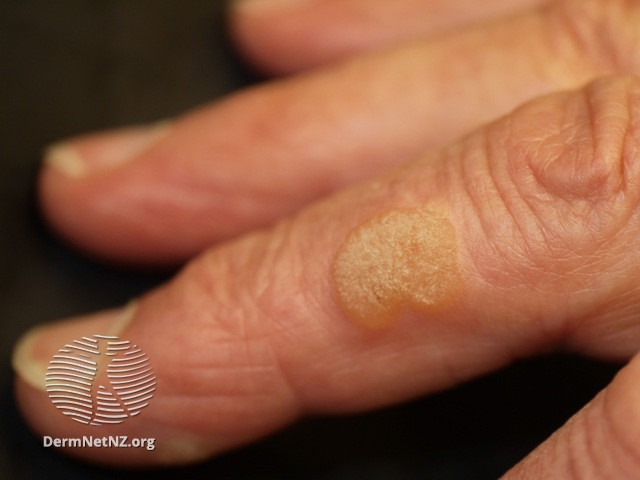Warts: (315, 199, 475, 339)
